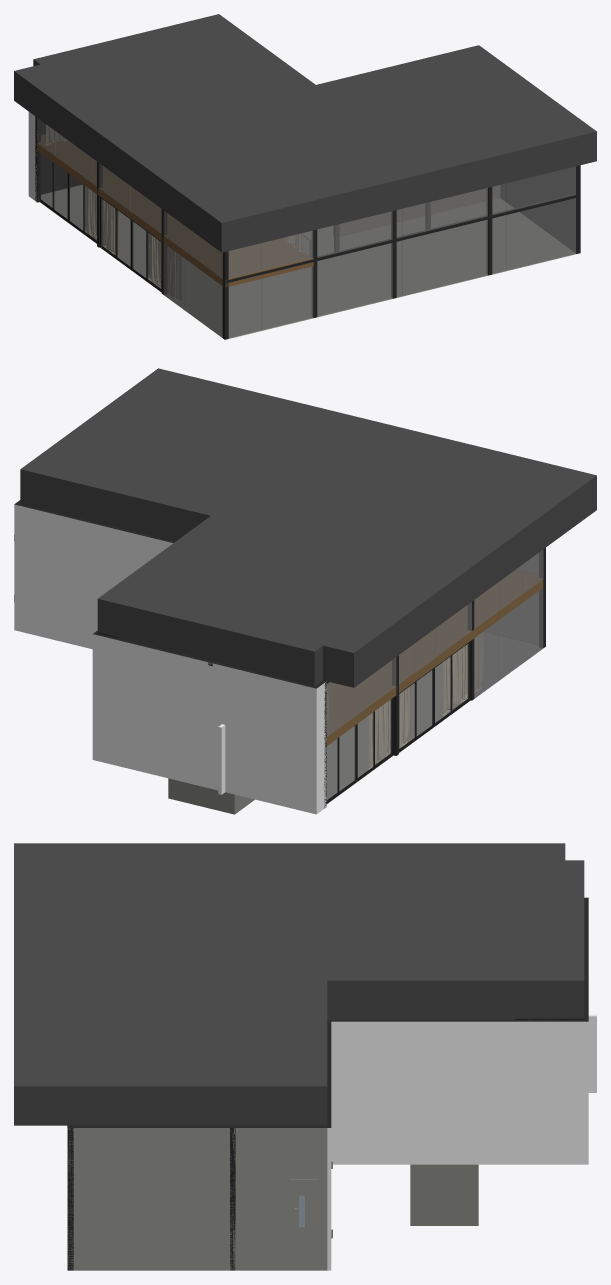
The model's file is salao.glb.
The picture shows the model from 3 angles, top to bottom: view 1: azimuth 30°, elevation 25°; view 2: azimuth 150°, elevation 25°; view 3: azimuth 270°, elevation 25°; orthographic projection. The views are drawn at different scales.
Bounding box in the file's own units: 20.75 × 10.15 × 20.72.
